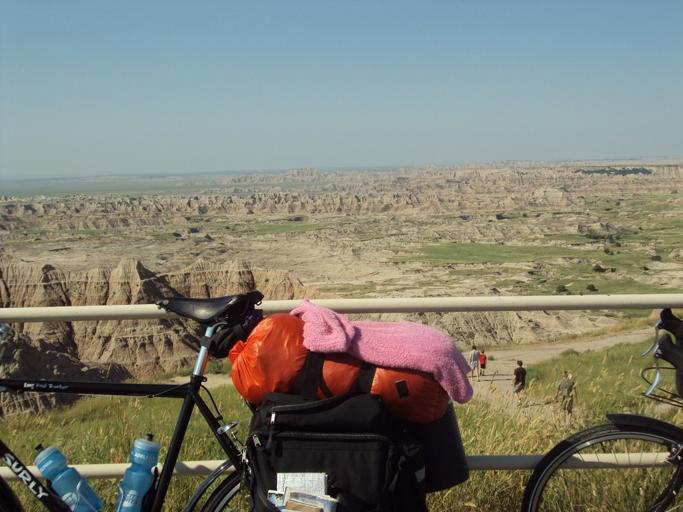non-vehicle: (0, 287, 473, 511), (520, 305, 683, 511)
